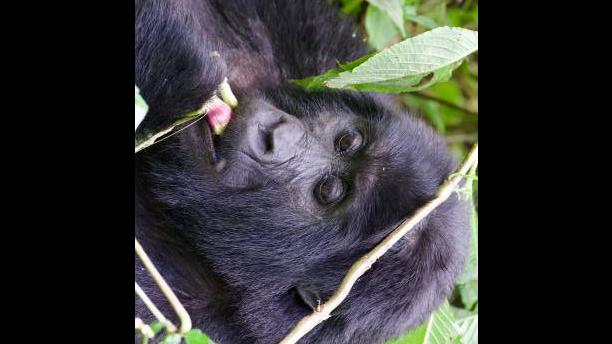goriile_montagne: (134, 0, 456, 344)
